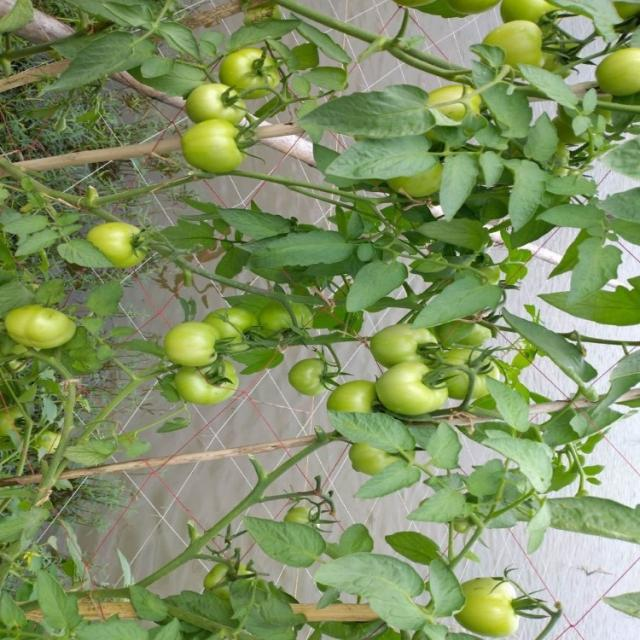tomato: (80, 217, 178, 300), (471, 14, 570, 85), (211, 26, 289, 108), (373, 372, 467, 430), (372, 311, 450, 380), (168, 316, 251, 379), (163, 359, 253, 417), (454, 565, 521, 636), (182, 120, 258, 177), (175, 77, 258, 128), (332, 437, 404, 487), (256, 299, 332, 345), (593, 34, 640, 107), (13, 295, 64, 351), (293, 355, 354, 401), (484, 1, 565, 35), (320, 377, 380, 420), (196, 550, 256, 593), (428, 75, 483, 121), (194, 302, 256, 341)
